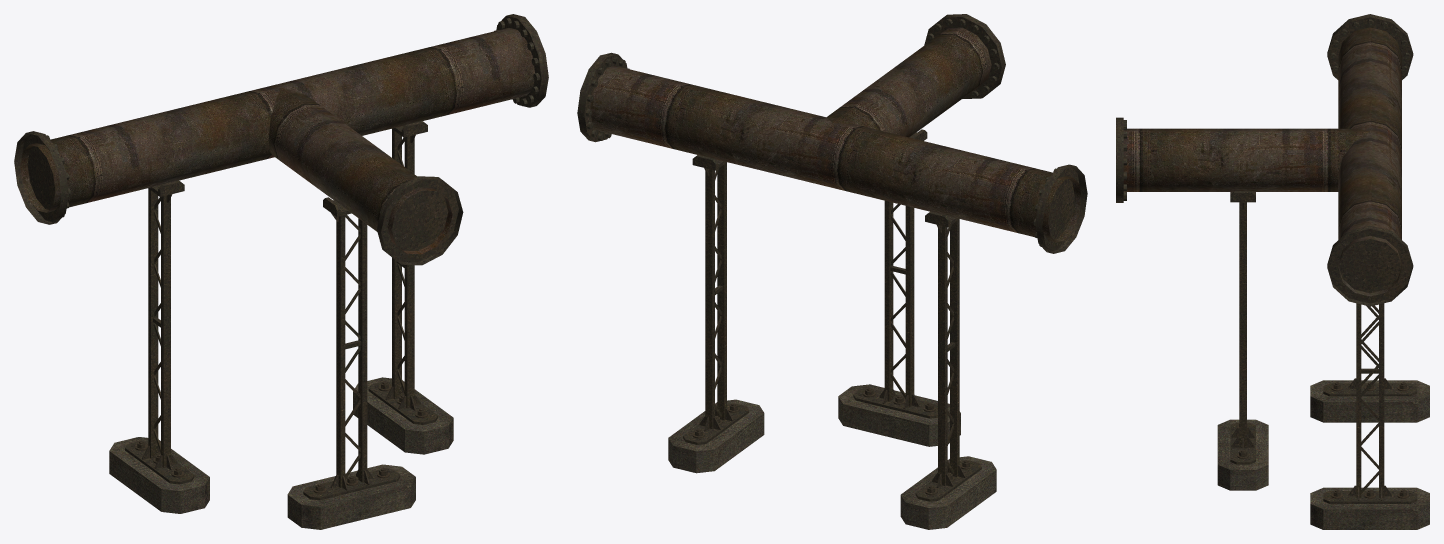
The model's file is pipe_cx_4.glb.
3 renders of one model, left to right at view 1: azimuth 30°, elevation 25°; view 2: azimuth 150°, elevation 25°; view 3: azimuth 270°, elevation 25°, orthographic. The views are drawn at different scales.
Visible parts, largest first — view 1: pipe_cx_4; view 2: pipe_cx_4; view 3: pipe_cx_4.
Boxes of the visible parts, x1,y1,x2,y2 form: pipe_cx_4: (14, 14, 548, 529); pipe_cx_4: (577, 14, 1087, 529); pipe_cx_4: (1116, 14, 1429, 529).
Size of the model in its own units: 4 by 2.99 by 2.47.
3 materials, 3 textured.
